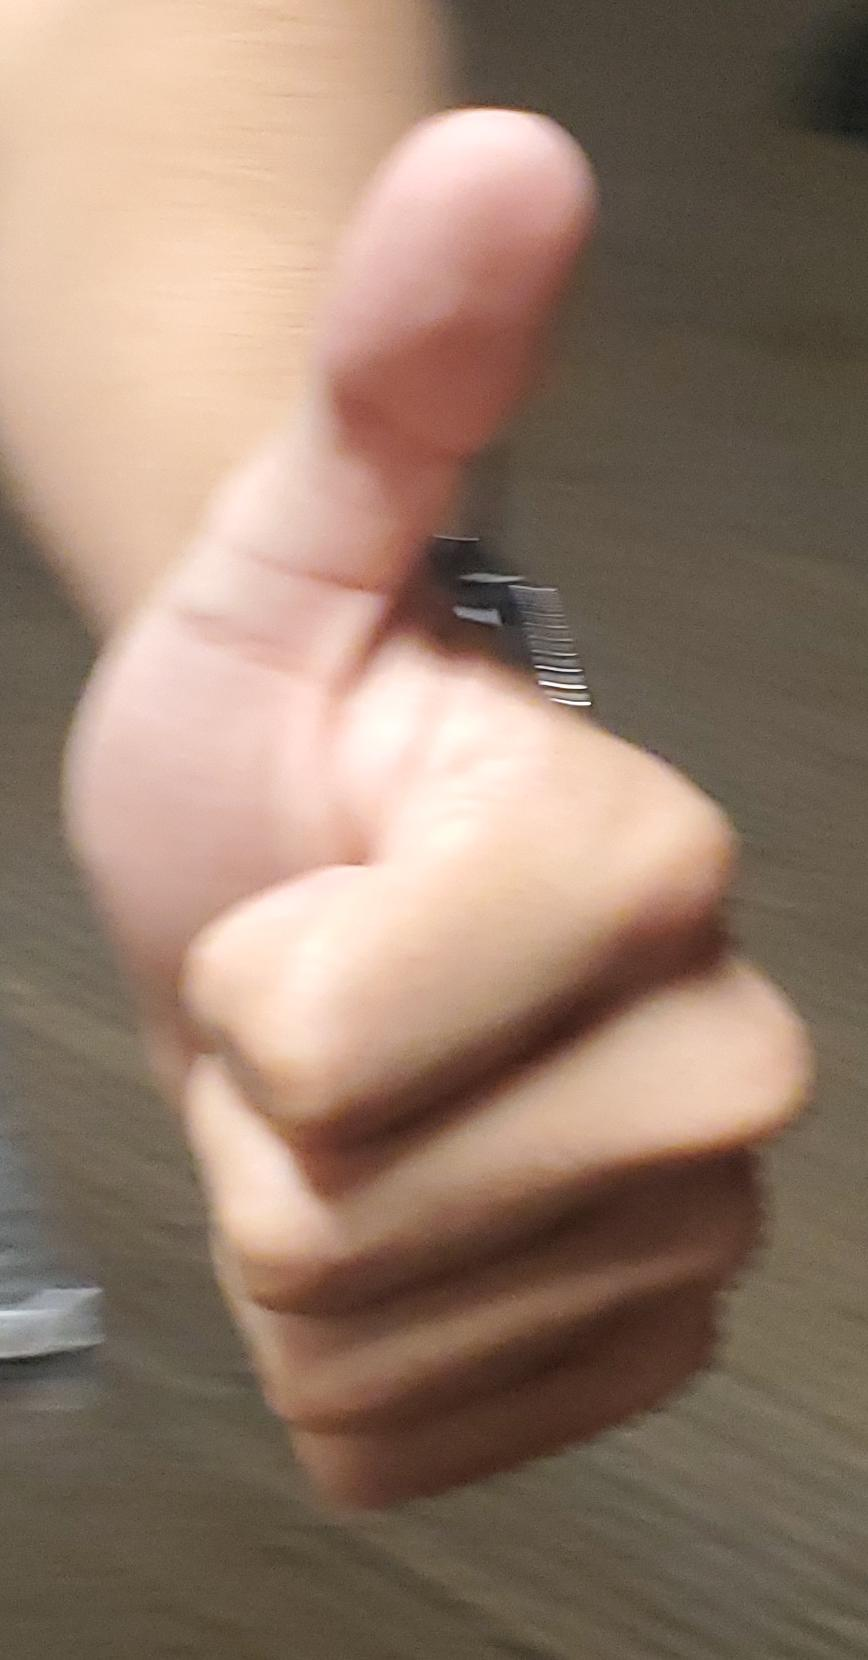up: (0, 1, 868, 1660)
